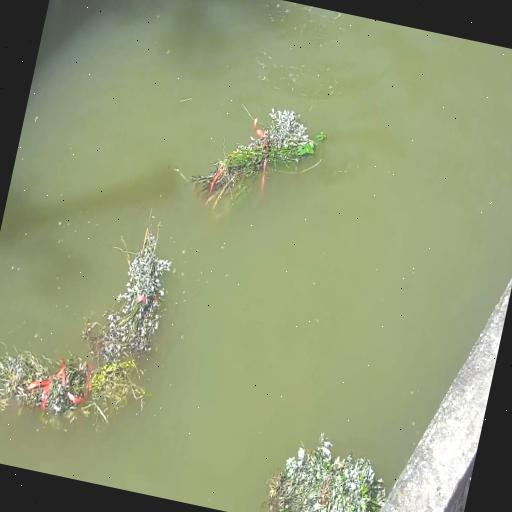twig: (0, 179, 188, 446), (182, 89, 326, 224), (260, 424, 394, 512)
